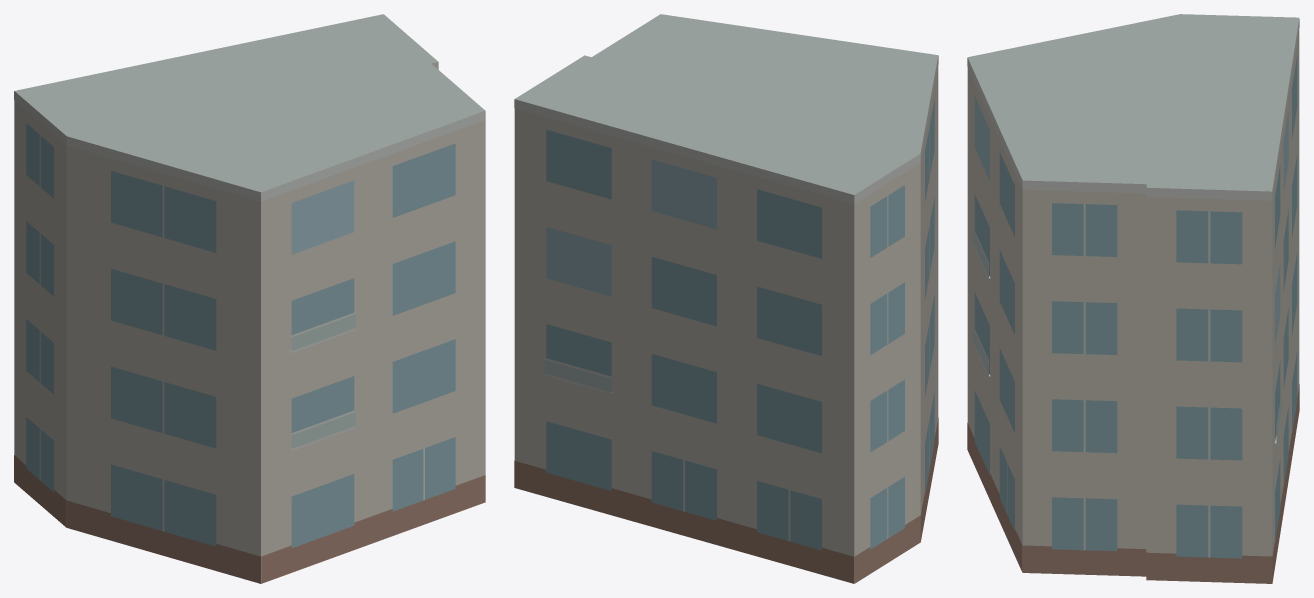
Rendered from survey-upis-32955830.glb.
3 views of the same model, side by side, from view 1: azimuth 30°, elevation 25°; view 2: azimuth 150°, elevation 25°; view 3: azimuth 270°, elevation 25° (orthographic).
Parts seen in each view (by area): view 1: survey-upis-32955830.tmp; view 2: survey-upis-32955830.tmp; view 3: survey-upis-32955830.tmp.
Boxes of the visible parts, x1,y1,x2,y2 form: survey-upis-32955830.tmp: (14, 14, 485, 583); survey-upis-32955830.tmp: (514, 14, 938, 583); survey-upis-32955830.tmp: (967, 14, 1299, 583).
Size of the model in its own units: 10.1 by 10.4 by 7.99.
